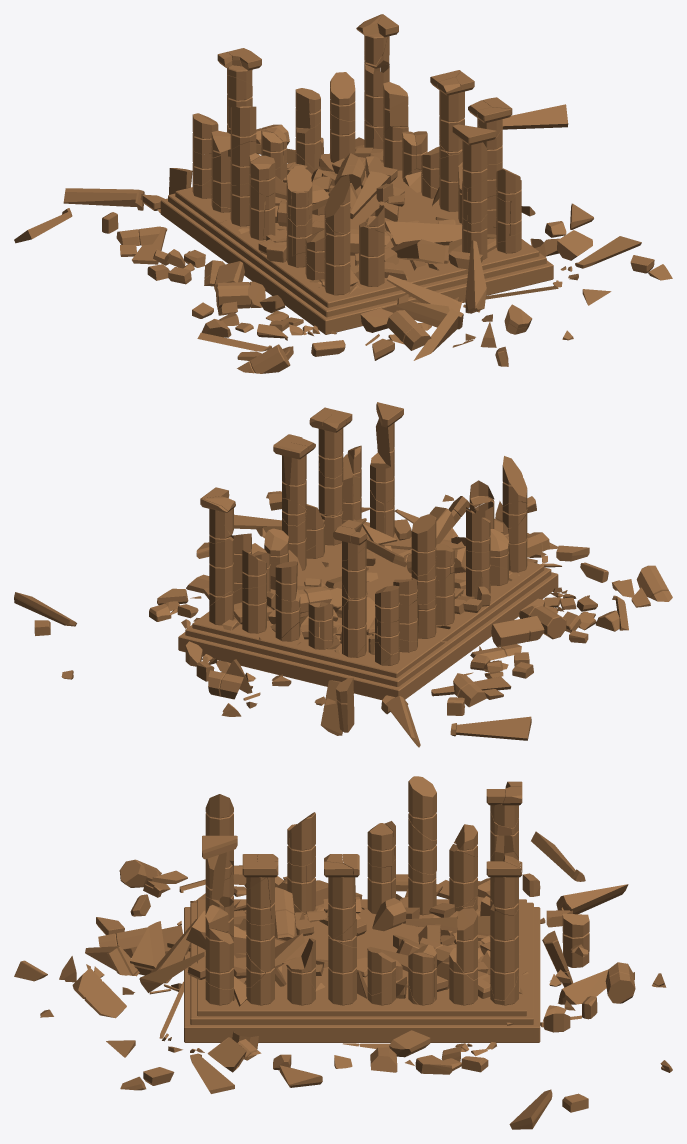
Rendered from Parthenon-Destroyed.obj.
3 renders of one model, top to bottom at view 1: azimuth 30°, elevation 25°; view 2: azimuth 150°, elevation 25°; view 3: azimuth 270°, elevation 25°, orthographic. The views are drawn at different scales.
Visible parts, largest first — view 1: base_topper_2_Cube.005, base_Cube, base_topper_Cube.001, pillars_b_cell.062_pillars_b_cell.061, pillars_b_cell.090_pillars_b_cell.089, roof_cell.028_roof_cell.027, roof_cell.048_roof_cell.047, pillars_b_cell.173_pillars_b_cell.174, pillars_b_cell.031_pillars_b_cell.030, roof_cell.057_roof_cell.056, pillars_b_cell.172_pillars_b_cell.173, pillars_b_cell.103_pillars_b_cell.104 (+49 smaller); view 2: base_topper_2_Cube.005, base_Cube, base_topper_Cube.001, pillars_b_cell.065_pillars_b_cell.064, pillars_b_cell.170_pillars_b_cell.171, roof_cell.096_roof_cell.095, pillars_b_cell.133_pillars_b_cell.134, pillars_b_cell.089_pillars_b_cell.088, pillars_b_cell.173_pillars_b_cell.174, pillars_b_cell.171_pillars_b_cell.172, pillars_b_cell.017_pillars_b_cell.016, pillars_b_cell.079_pillars_b_cell.078 (+39 smaller); view 3: base_topper_2_Cube.005, base_Cube, base_topper_Cube.001, pillars_b_cell.003_pillars_b_cell.002, pillars_b_cell.103_pillars_b_cell.104, pillars_b_cell.070_pillars_b_cell.069, pillars_b_cell.173_pillars_b_cell.174, pillars_b_cell.170_pillars_b_cell.171, pillars_b_cell.038_pillars_b_cell.037, pillars_b_cell.165_pillars_b_cell.166, pillars_b_cell.029_pillars_b_cell.028, pillars_b_cell.085_pillars_b_cell.084 (+44 smaller).
Boxes of the visible parts, <box> form: base_topper_2_Cube.005: <box>175,145,539,307</box>; base_Cube: <box>160,198,553,334</box>; base_topper_Cube.001: <box>168,193,546,317</box>; pillars_b_cell.062_pillars_b_cell.061: <box>324,232,350,295</box>; pillars_b_cell.090_pillars_b_cell.089: <box>359,222,384,286</box>; roof_cell.028_roof_cell.027: <box>384,221,462,246</box>; roof_cell.048_roof_cell.047: <box>63,188,144,210</box>; pillars_b_cell.173_pillars_b_cell.174: <box>439,90,464,154</box>; pillars_b_cell.031_pillars_b_cell.030: <box>324,174,350,233</box>; roof_cell.057_roof_cell.056: <box>502,104,568,129</box>; pillars_b_cell.172_pillars_b_cell.173: <box>216,281,265,308</box>; pillars_b_cell.103_pillars_b_cell.104: <box>439,151,462,211</box>; base_topper_2_Cube.005: <box>192,522,544,677</box>; base_Cube: <box>178,572,558,699</box>; base_topper_Cube.001: <box>185,567,551,686</box>; pillars_b_cell.065_pillars_b_cell.064: <box>209,536,233,605</box>; pillars_b_cell.170_pillars_b_cell.171: <box>411,514,436,575</box>; roof_cell.096_roof_cell.095: <box>450,716,531,740</box>; pillars_b_cell.133_pillars_b_cell.134: <box>343,594,366,657</box>; pillars_b_cell.089_pillars_b_cell.088: <box>491,616,544,647</box>; pillars_b_cell.173_pillars_b_cell.174: <box>282,455,306,510</box>; pillars_b_cell.171_pillars_b_cell.172: <box>242,583,266,633</box>; pillars_b_cell.017_pillars_b_cell.016: <box>318,429,343,478</box>; pillars_b_cell.079_pillars_b_cell.078: <box>342,543,366,598</box>; base_topper_2_Cube.005: <box>197,899,526,1016</box>; base_Cube: <box>184,907,540,1042</box>; base_topper_Cube.001: <box>190,902,533,1024</box>; pillars_b_cell.003_pillars_b_cell.002: <box>490,904,514,1000</box>; pillars_b_cell.103_pillars_b_cell.104: <box>328,938,356,1005</box>; pillars_b_cell.070_pillars_b_cell.069: <box>205,928,233,989</box>; pillars_b_cell.173_pillars_b_cell.174: <box>328,877,355,939</box>; pillars_b_cell.170_pillars_b_cell.171: <box>408,776,436,840</box>; pillars_b_cell.038_pillars_b_cell.037: <box>449,844,477,907</box>; pillars_b_cell.165_pillars_b_cell.166: <box>72,968,126,1018</box>; pillars_b_cell.029_pillars_b_cell.028: <box>456,908,477,980</box>; pillars_b_cell.085_pillars_b_cell.084: <box>562,913,589,967</box>.
Size of the model in its own units: 3.79 by 1.28 by 3.7.
